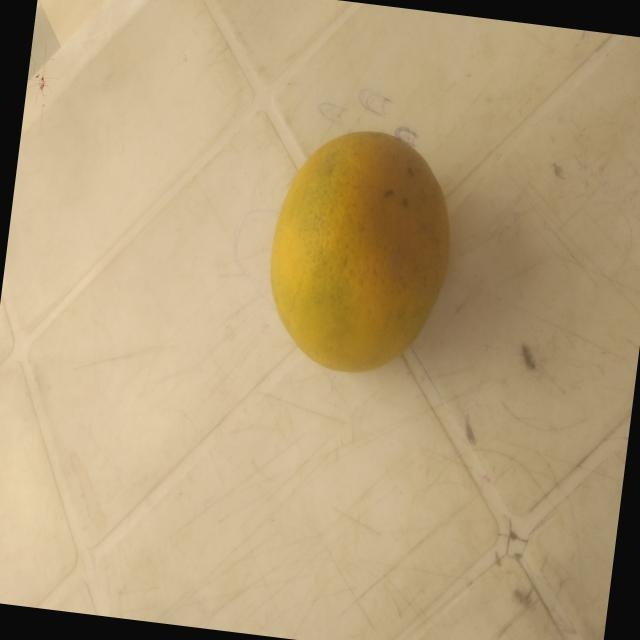agrume: (242, 102, 490, 427)
